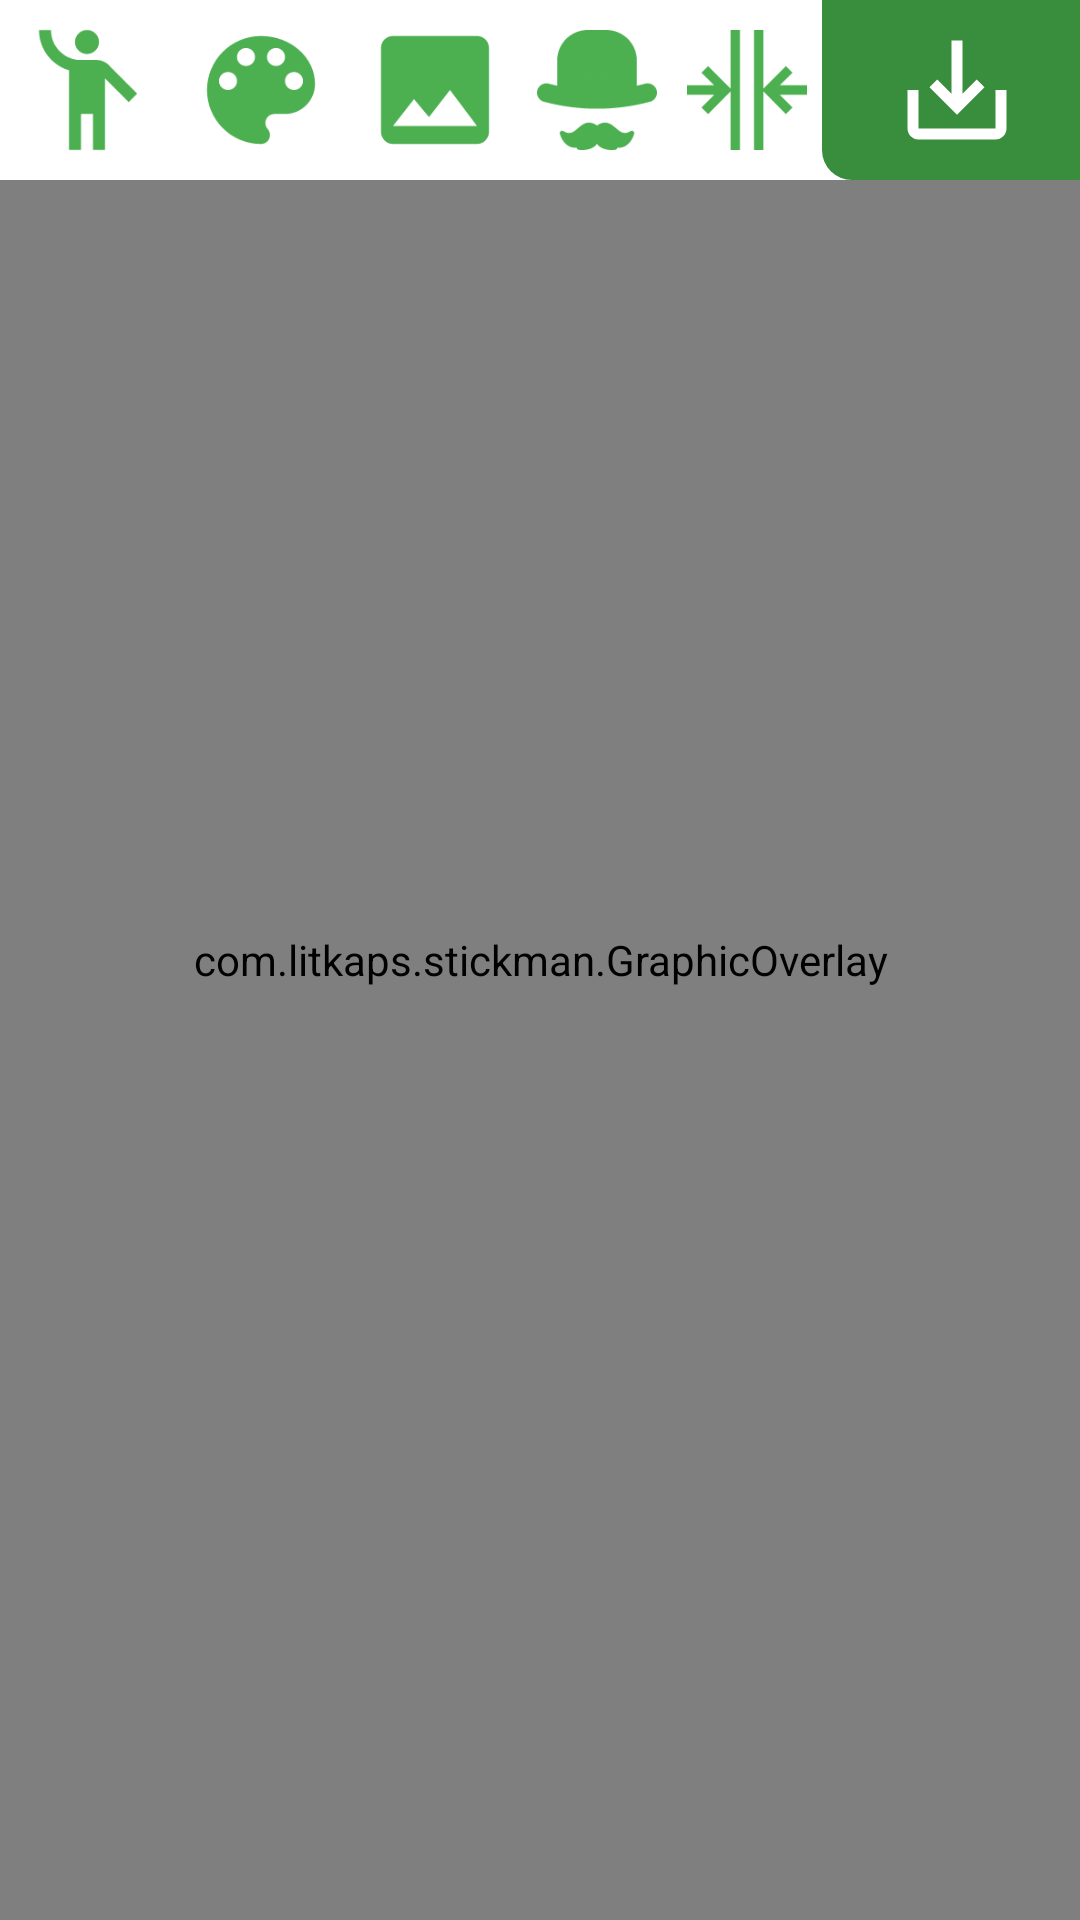

Where to tap for icons on this 1080×1920 app screen, as (x=x, y=y):
emoji people: (x=87, y=90)
hat: (x=597, y=90)
save: (x=951, y=90)
width: (x=747, y=90)
